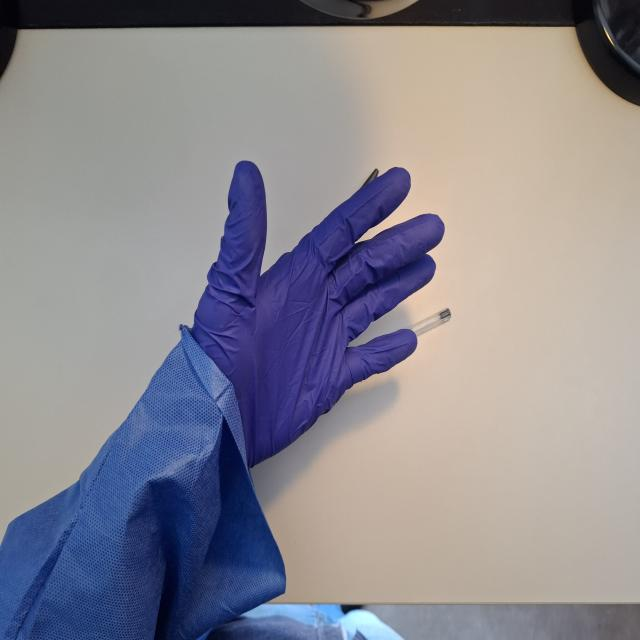glove_on: (186, 157, 448, 474)
